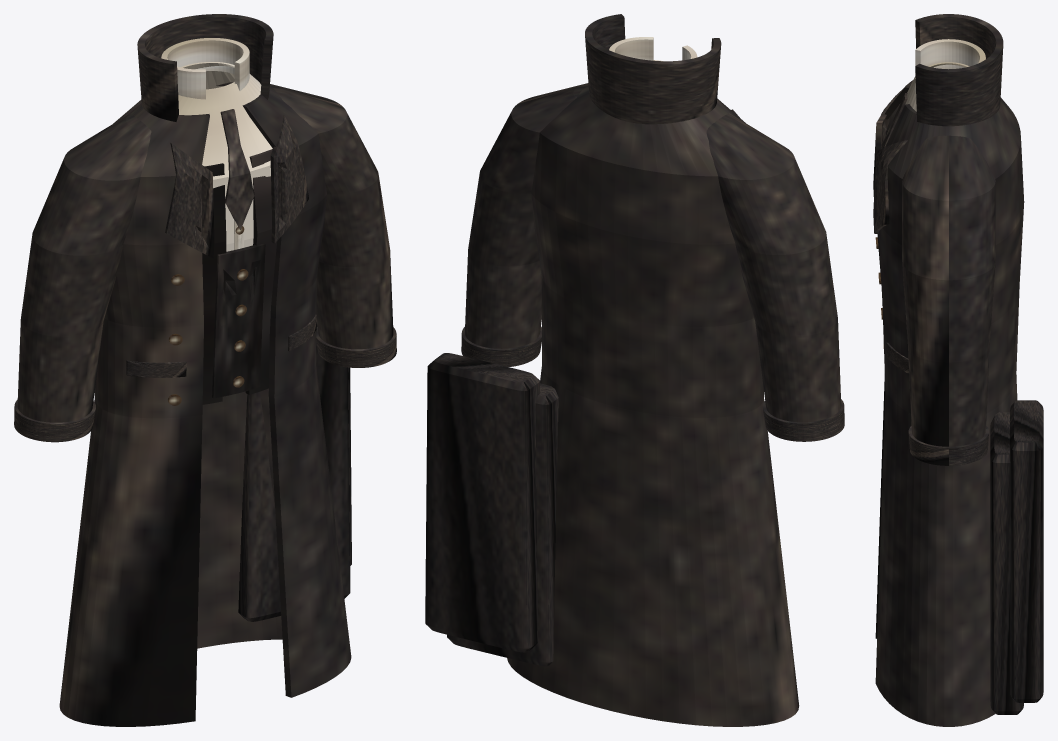
The picture shows the model from 3 angles, left to right: view 1: azimuth 30°, elevation 25°; view 2: azimuth 150°, elevation 25°; view 3: azimuth 270°, elevation 25°; orthographic projection. The views are drawn at different scales.
Visible parts, largest first — view 1: outer_coat, left_coat_sleeve, right_coat_sleeve, folded_trousers_0, raised_coat_collar, waistcoat_front, waistcoat, shirt_body, left_lapel, shirt_collar, right_lapel, silk_tie (+3 smaller); view 2: outer_coat, folded_trousers_1, left_coat_sleeve, right_coat_sleeve, raised_coat_collar, folded_trousers_0, left_coat_cuff, right_coat_cuff, shirt_collar; view 3: outer_coat, right_coat_sleeve, folded_trousers_1, raised_coat_collar, folded_trousers_0, shirt_collar, right_coat_cuff, right_lapel, left_lapel, shirt_body, right_pocket, silk_tie.
Part boxes in pixels (x1,y1,x2,y2): outer_coat: (59, 86, 351, 726); left_coat_sleeve: (17, 114, 151, 422); right_coat_sleeve: (270, 84, 393, 349); folded_trousers_0: (238, 342, 350, 621); raised_coat_collar: (137, 14, 273, 121); waistcoat_front: (212, 243, 265, 398); waistcoat: (202, 149, 276, 404); shirt_body: (178, 62, 272, 251); left_lapel: (165, 143, 214, 258); shirt_collar: (161, 38, 249, 99); right_lapel: (270, 115, 308, 243); silk_tie: (220, 109, 254, 229); outer_coat: (507, 85, 799, 726); folded_trousers_1: (425, 353, 539, 652); left_coat_sleeve: (706, 113, 841, 422); right_coat_sleeve: (465, 83, 588, 348); raised_coat_collar: (585, 14, 721, 124); folded_trousers_0: (447, 383, 558, 666); left_coat_cuff: (762, 399, 844, 441); right_coat_cuff: (461, 326, 541, 366); shirt_collar: (609, 37, 697, 60); outer_coat: (875, 80, 1024, 726); right_coat_sleeve: (902, 135, 995, 446); folded_trousers_1: (1010, 400, 1043, 702); raised_coat_collar: (915, 14, 1003, 126); folded_trousers_0: (990, 412, 1023, 714); shirt_collar: (915, 39, 985, 92); right_coat_cuff: (908, 426, 988, 465); right_lapel: (873, 140, 907, 233); left_lapel: (873, 87, 904, 196); shirt_body: (905, 62, 969, 111); right_pocket: (886, 342, 908, 373); silk_tie: (881, 93, 907, 148).
Size of the model in its own units: 70.87 by 117 by 29.24.
Materials: 6 (6 with a texture image).
